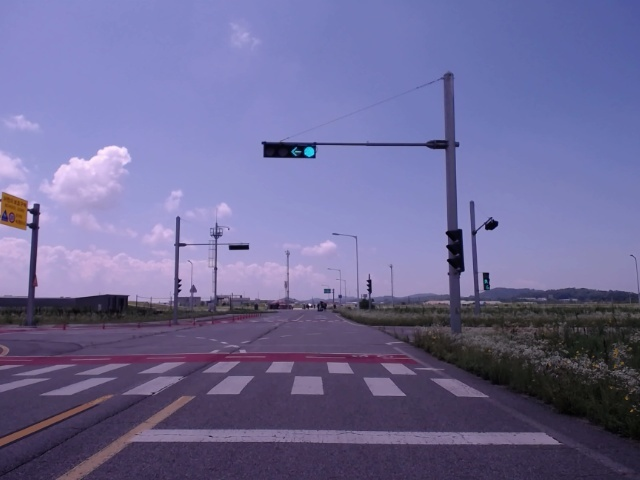all_green_4: (263, 141, 319, 159)
